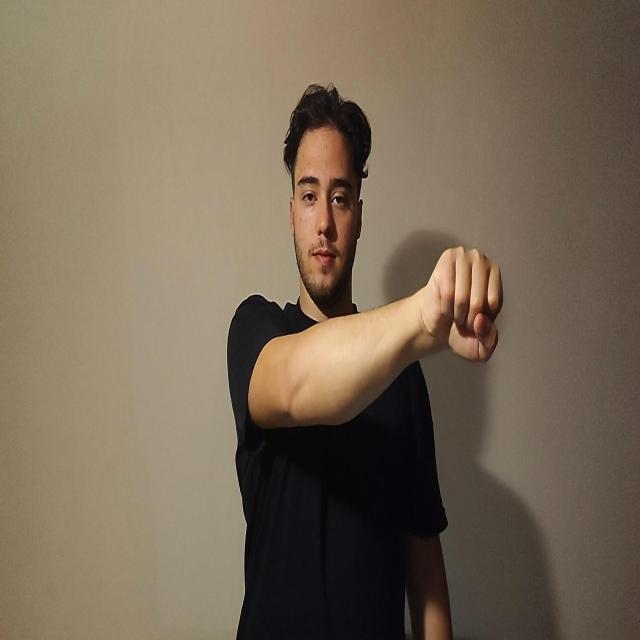yes: (418, 244, 504, 363)
